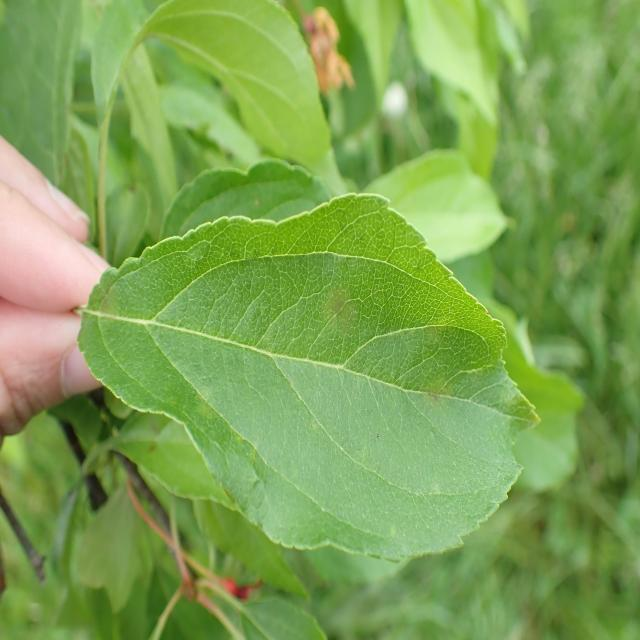scab: (82, 167, 545, 552)
